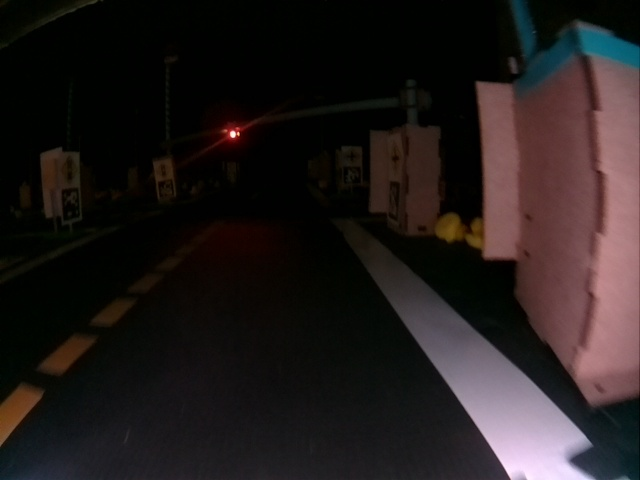Duckie: (435, 213, 461, 242), (468, 218, 483, 248)
Intersection sign: (388, 140, 403, 177), (344, 147, 360, 162)
QR code: (62, 187, 80, 220), (388, 185, 401, 222), (344, 168, 361, 185), (159, 182, 172, 196)
Signal sign: (60, 156, 78, 182), (158, 163, 170, 177)
Traffic light: (227, 127, 241, 140)
